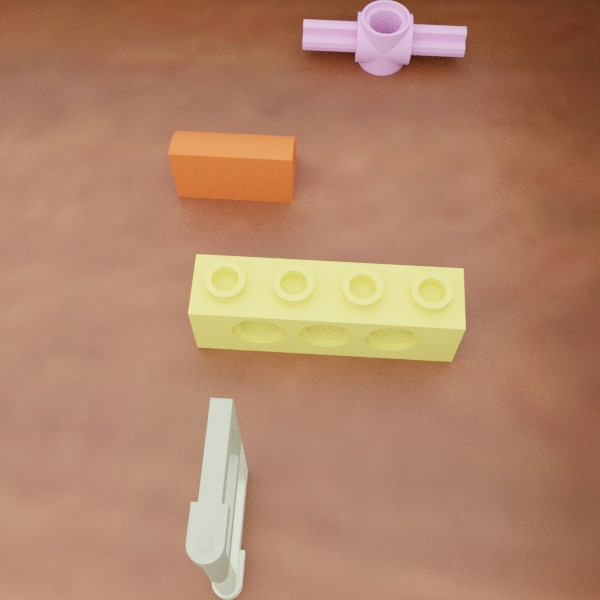lego: (188, 254, 465, 361), (185, 397, 247, 600), (302, 0, 466, 75), (168, 130, 296, 202)
